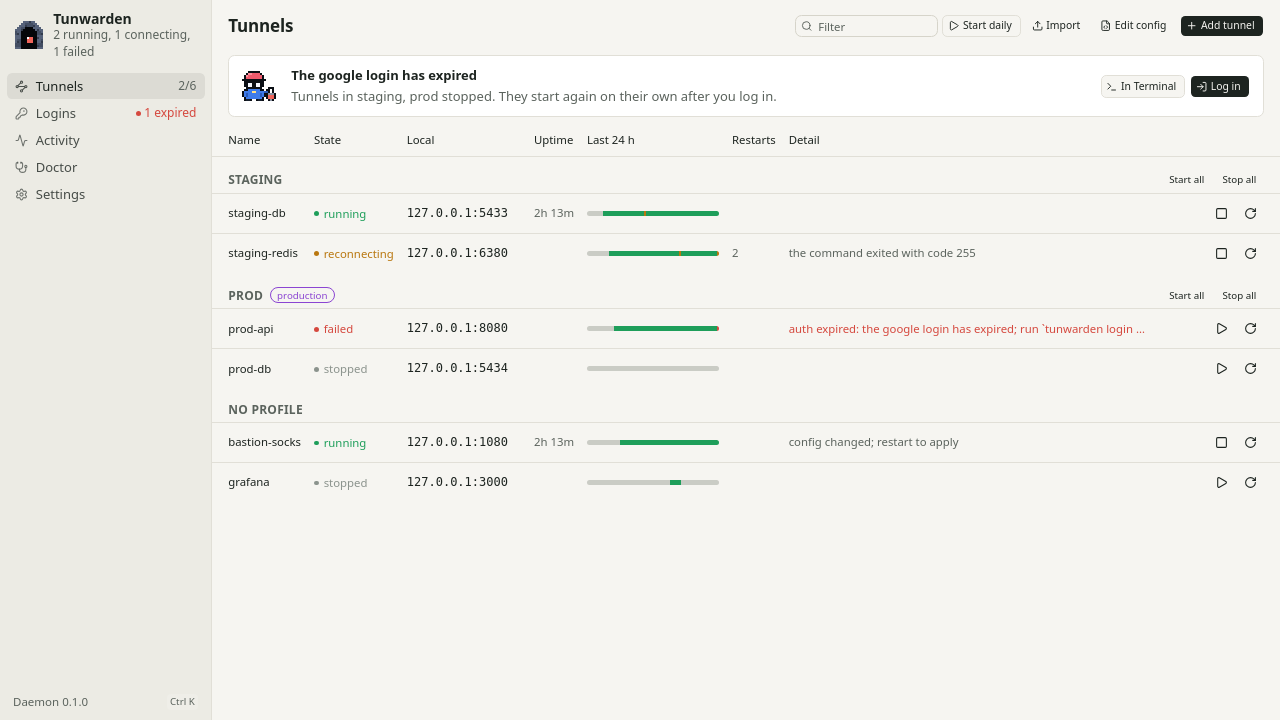
dashboard against the mock daemon › shows the daemon's validation error on the field it names
This screenshot has width=1280, height=720.
Expected: the button "staging-db" is shown, [228,205,286,221]
Click the button "Add tunnel" at (1222, 26), box [1180,15,1264,37]
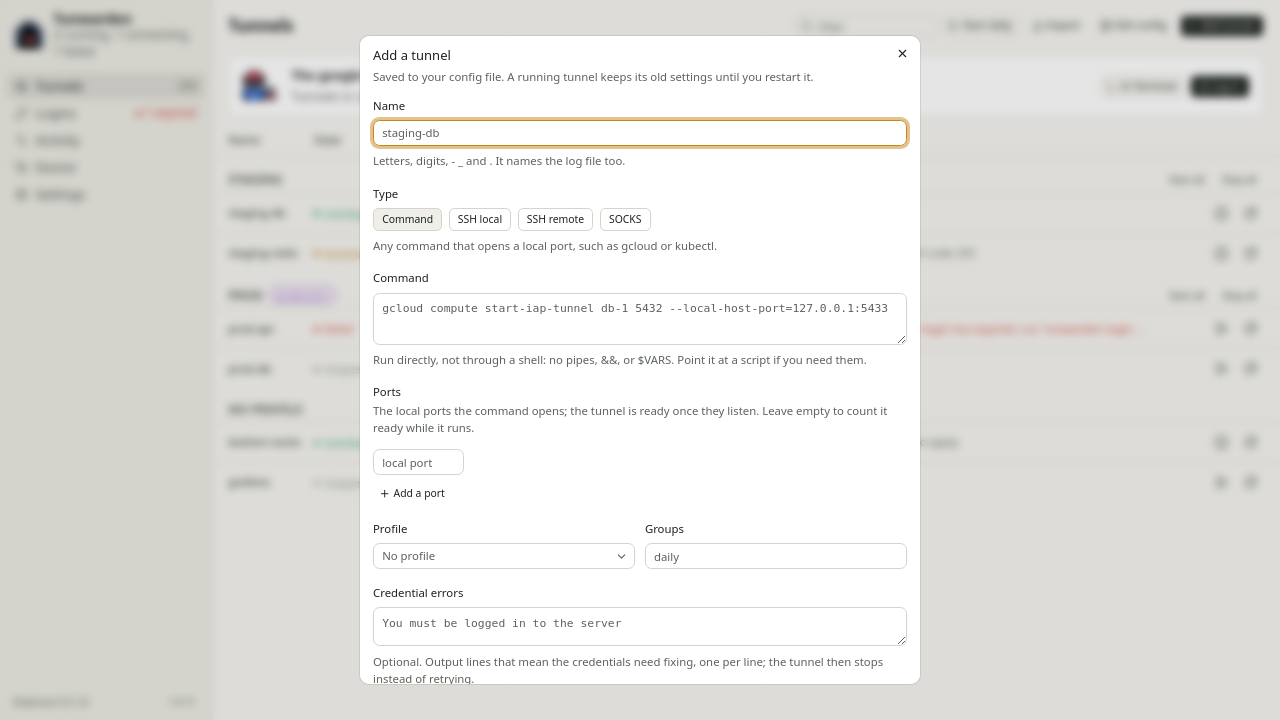
Type "cache" into the field labelled "Name" at (640, 133), box [373,120,907,146]
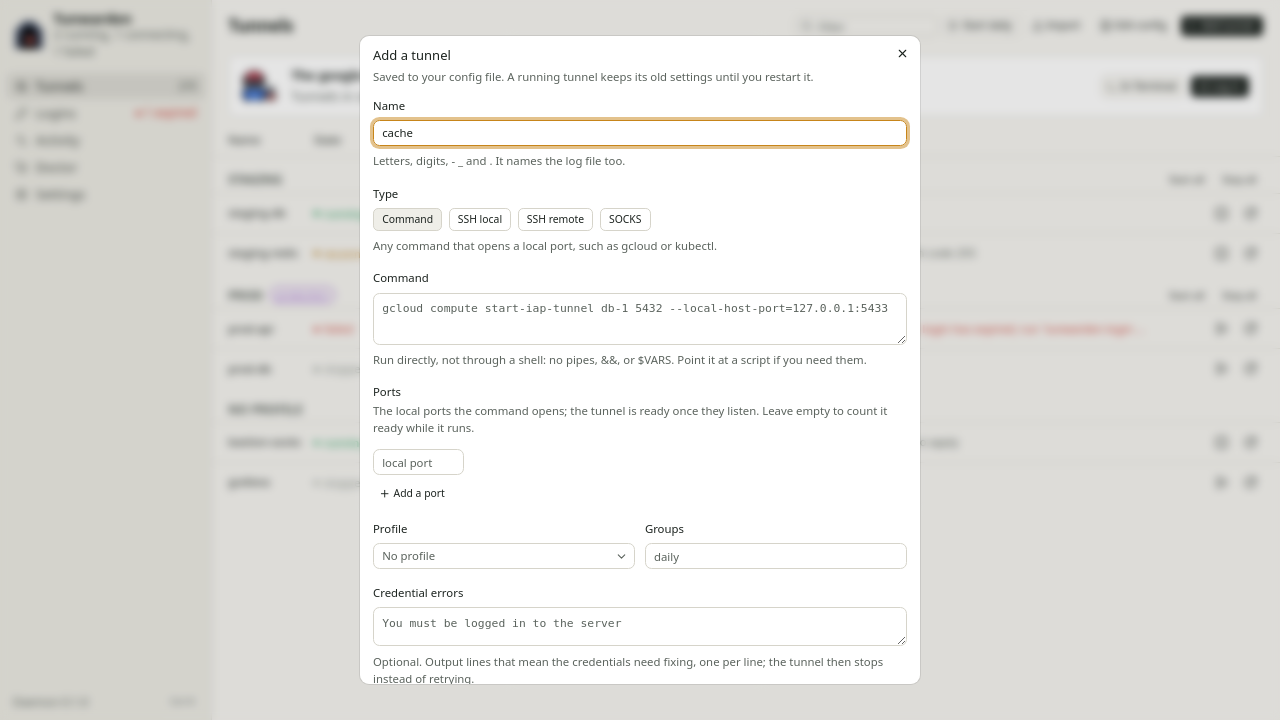
Click the button "SSH local" at (480, 219), box [449,208,511,231]
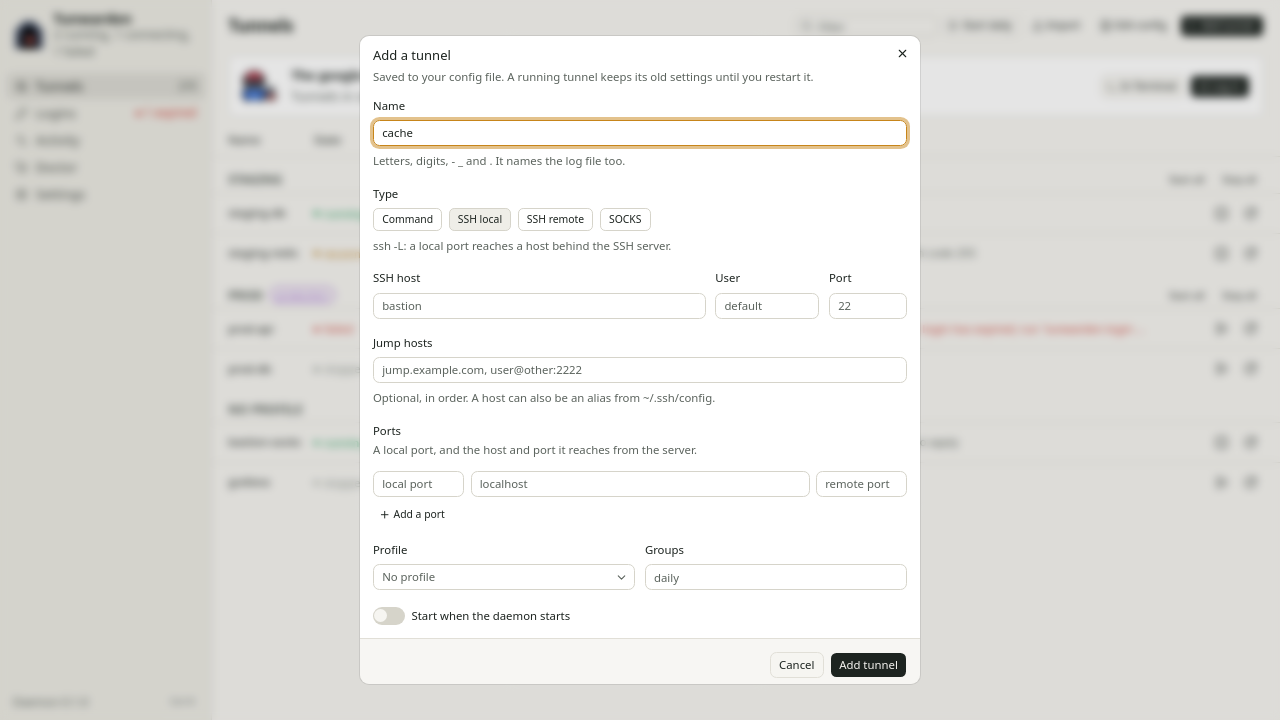
Click the button "Add tunnel" at (869, 665), box [830,652,907,678]
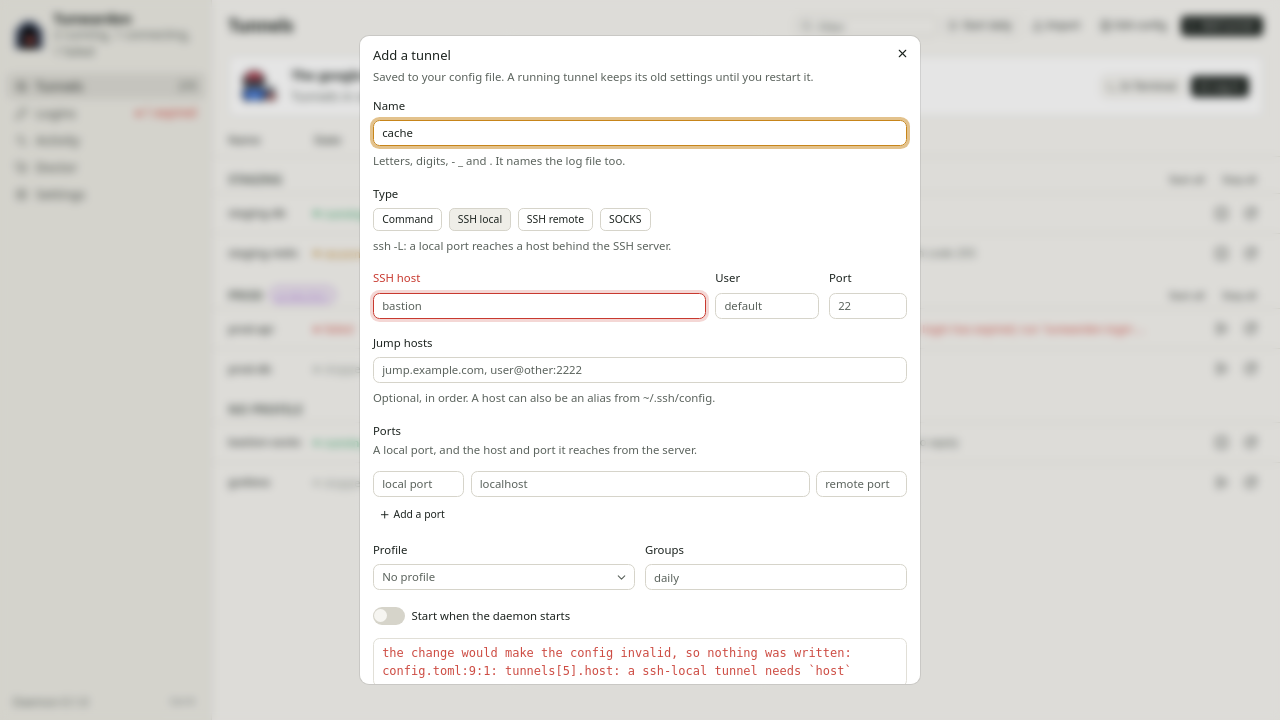
Now the text "a ssh-local tunnel needs `host`" is shown, box [382,646,852,678]
